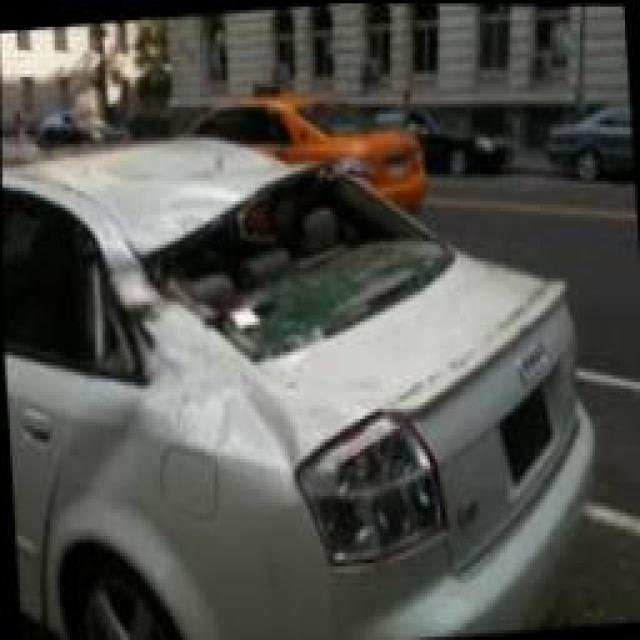Fender: (109, 277, 377, 468)
Windshield: (150, 164, 448, 352)
